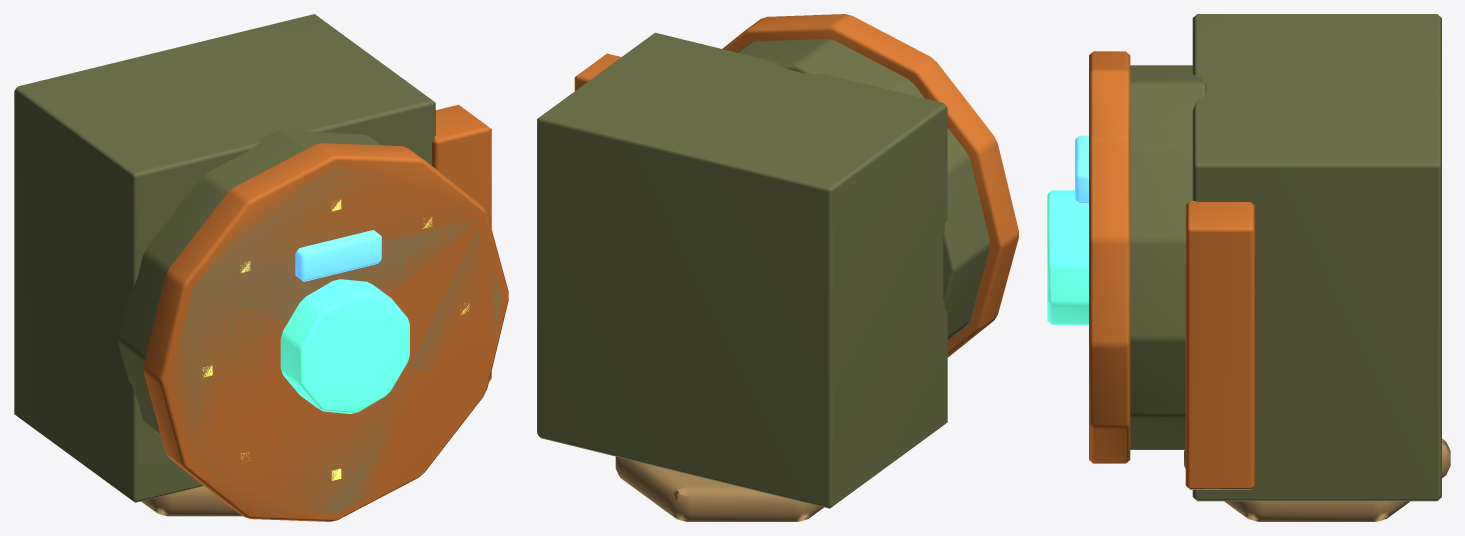
The model's file is quivergear_magazine_core.glb.
3 views of the same model, side by side, from view 1: azimuth 30°, elevation 25°; view 2: azimuth 150°, elevation 25°; view 3: azimuth 270°, elevation 25° (orthographic). The views are drawn at different scales.
Parts seen in each view (by area): view 1: quivergear_magazine_core; view 2: quivergear_magazine_core; view 3: quivergear_magazine_core.
Part boxes in pixels (left/top/right/bottom): quivergear_magazine_core: left=14, top=14, right=508, bottom=521; quivergear_magazine_core: left=537, top=14, right=1018, bottom=521; quivergear_magazine_core: left=1047, top=14, right=1450, bottom=521.
Bounding box in the file's own units: 0.6483 × 0.6483 × 0.5825.
1 material, 1 textured.
